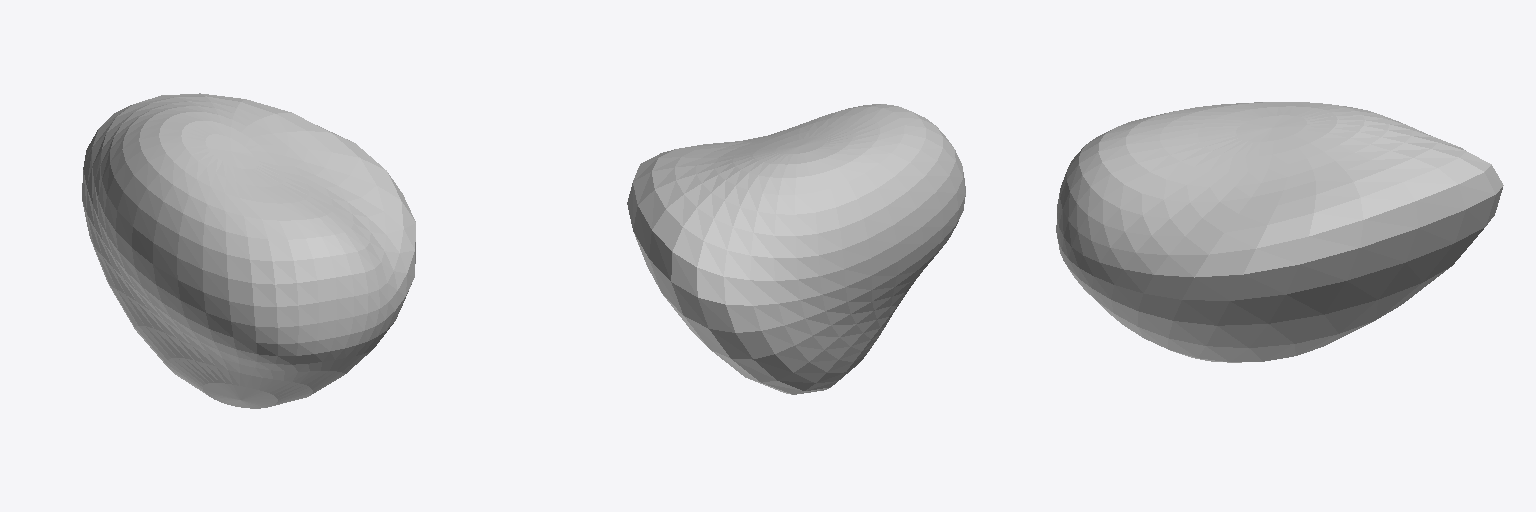
The model's file is asteroid.obj.
3 views of the same model, side by side, from view 1: azimuth 30°, elevation 25°; view 2: azimuth 150°, elevation 25°; view 3: azimuth 270°, elevation 25° (orthographic).
Visible parts, largest first — view 1: Sphere003; view 2: Sphere003; view 3: Sphere003.
Boxes of the visible parts, <box> form: Sphere003: <box>82,93,415,408</box>; Sphere003: <box>627,104,965,394</box>; Sphere003: <box>1056,102,1503,362</box>.
Size of the model in its own units: 27.25 by 24.62 by 41.08.